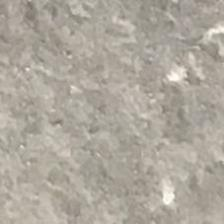Non_Crack: (20, 19, 200, 205)
